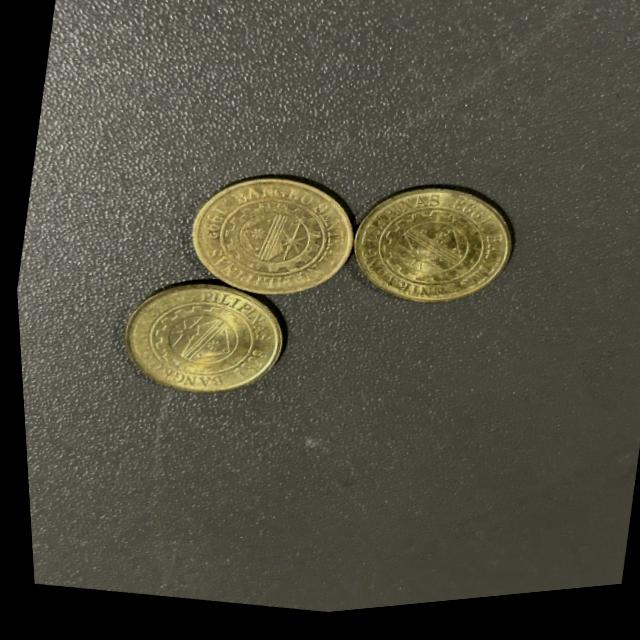25Cent_Old_Back: (194, 162, 332, 294), (130, 281, 266, 400), (365, 194, 492, 309)
